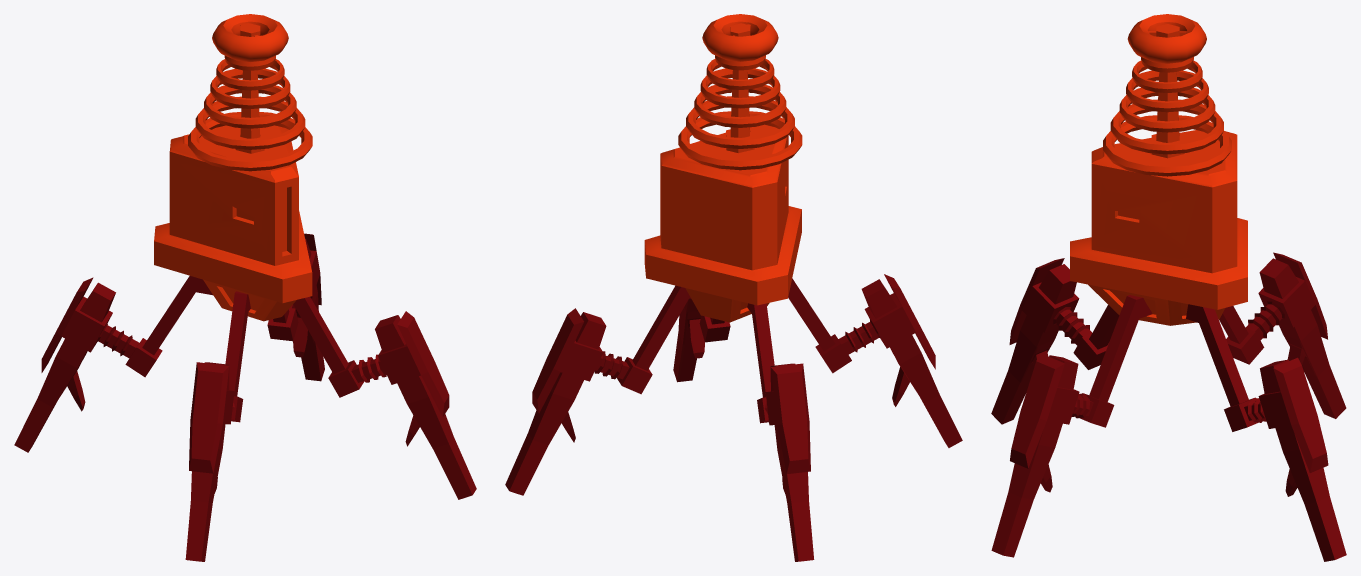
Rendered from Tesla.fbx.
3 views of the same model, side by side, from view 1: azimuth 30°, elevation 25°; view 2: azimuth 150°, elevation 25°; view 3: azimuth 270°, elevation 25° (orthographic). The views are drawn at different scales.
Visible parts, largest first — view 1: Cube.003, Cube.017, Cube.018, Cube.024, Cube.015, Cube.026, Cube.023, Cube.020, Cube.025, Cube.021, Cube.016; view 2: Cube.003, Cube.023, Cube.024, Cube.018, Cube.021, Cube.017, Cube.020, Cube.026, Cube.019, Cube.015, Cube.022; view 3: Cube.003, Cube.023, Cube.017, Cube.024, Cube.018, Cube.015, Cube.021, Cube.026, Cube.020, Cube.025, Cube.019.
Part boxes in pixels (bbox=[...]): Cube.003: bbox=[154, 14, 312, 321]; Cube.017: bbox=[375, 311, 476, 499]; Cube.018: bbox=[185, 362, 234, 561]; Cube.024: bbox=[14, 277, 115, 452]; Cube.015: bbox=[293, 296, 364, 397]; Cube.026: bbox=[125, 276, 212, 377]; Cube.023: bbox=[293, 233, 324, 381]; Cube.020: bbox=[225, 291, 250, 422]; Cube.025: bbox=[97, 323, 139, 358]; Cube.021: bbox=[267, 308, 298, 341]; Cube.016: bbox=[351, 354, 386, 382]; Cube.003: bbox=[644, 14, 802, 322]; Cube.023: bbox=[505, 308, 606, 495]; Cube.024: bbox=[765, 363, 814, 561]; Cube.018: bbox=[861, 274, 962, 447]; Cube.021: bbox=[616, 285, 690, 394]; Cube.017: bbox=[673, 298, 704, 382]; Cube.020: bbox=[788, 278, 851, 373]; Cube.026: bbox=[747, 303, 774, 423]; Cube.019: bbox=[838, 319, 880, 354]; Cube.015: bbox=[699, 315, 730, 342]; Cube.022: bbox=[594, 351, 629, 379]; Cube.003: bbox=[1070, 14, 1247, 325]; Cube.023: bbox=[1258, 357, 1346, 561]; Cube.017: bbox=[991, 353, 1079, 557]; Cube.024: bbox=[1258, 252, 1346, 418]; Cube.018: bbox=[991, 258, 1079, 424]; Cube.015: bbox=[1079, 295, 1152, 427]; Cube.021: bbox=[1186, 304, 1257, 431]; Cube.026: bbox=[1219, 306, 1264, 364]; Cube.020: bbox=[1073, 304, 1119, 369]; Cube.025: bbox=[1246, 301, 1284, 340]; Cube.019: bbox=[1053, 307, 1091, 345].
Bounding box in the file's own units: 3.05 × 4.19 × 2.92.
